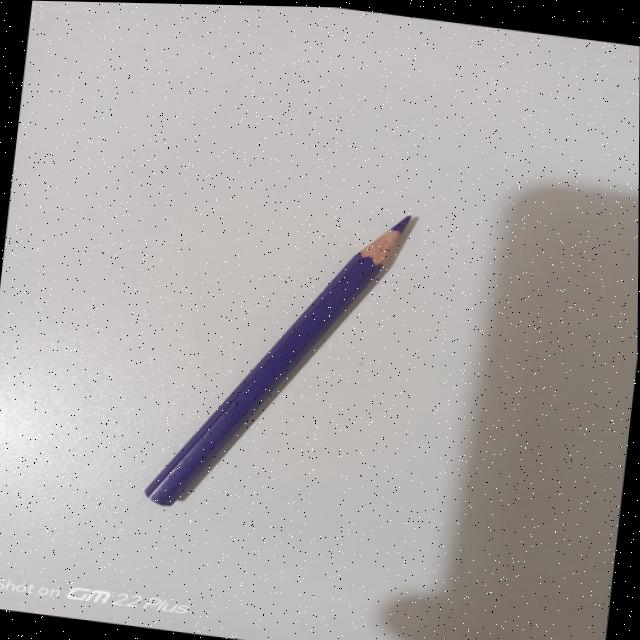pencil: (145, 213, 417, 504)
